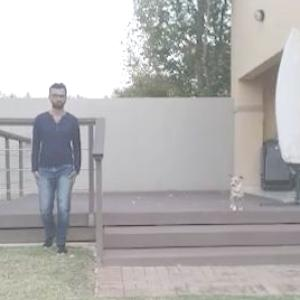follow: (31, 76, 83, 262)
